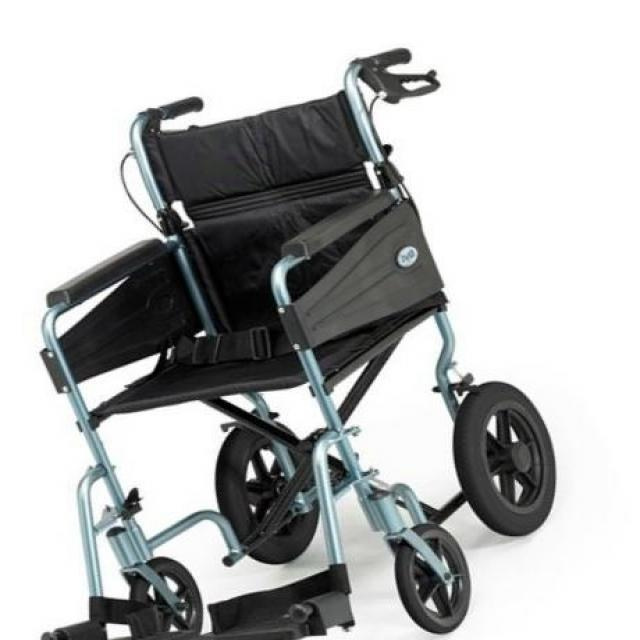wheelchair: (0, 42, 580, 640)
